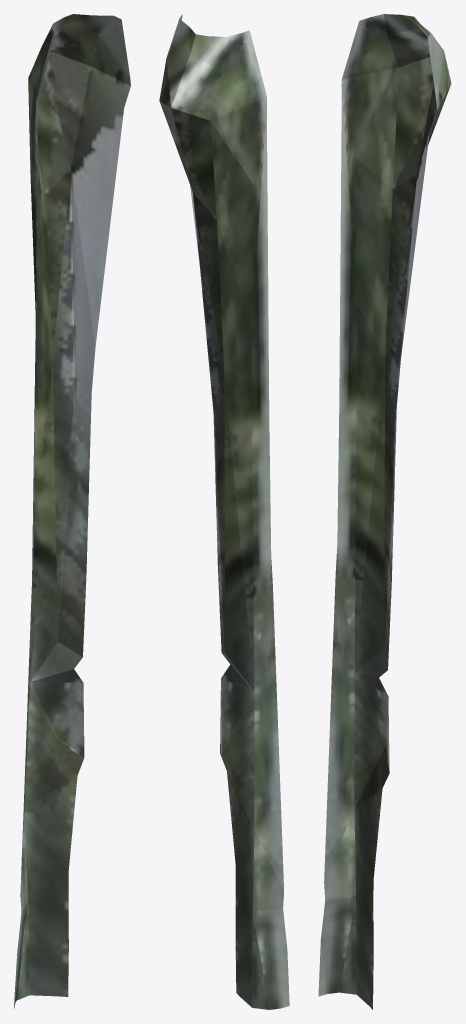
3 views of the same model, side by side, from view 1: azimuth 30°, elevation 25°; view 2: azimuth 150°, elevation 25°; view 3: azimuth 330°, elevation 25° (orthographic). The views are drawn at different scales.
Bounding box in the file's own units: 0.3714 × 2.95 × 0.2364.
1 material, 1 textured.
